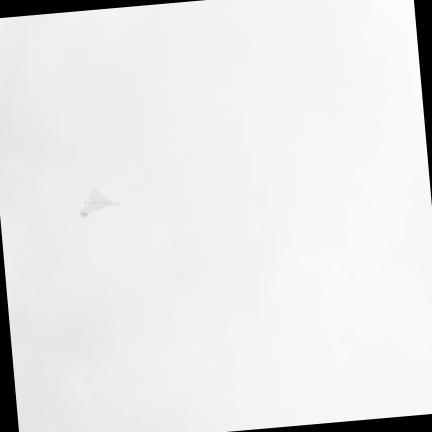Shahed: (80, 188, 118, 217)
